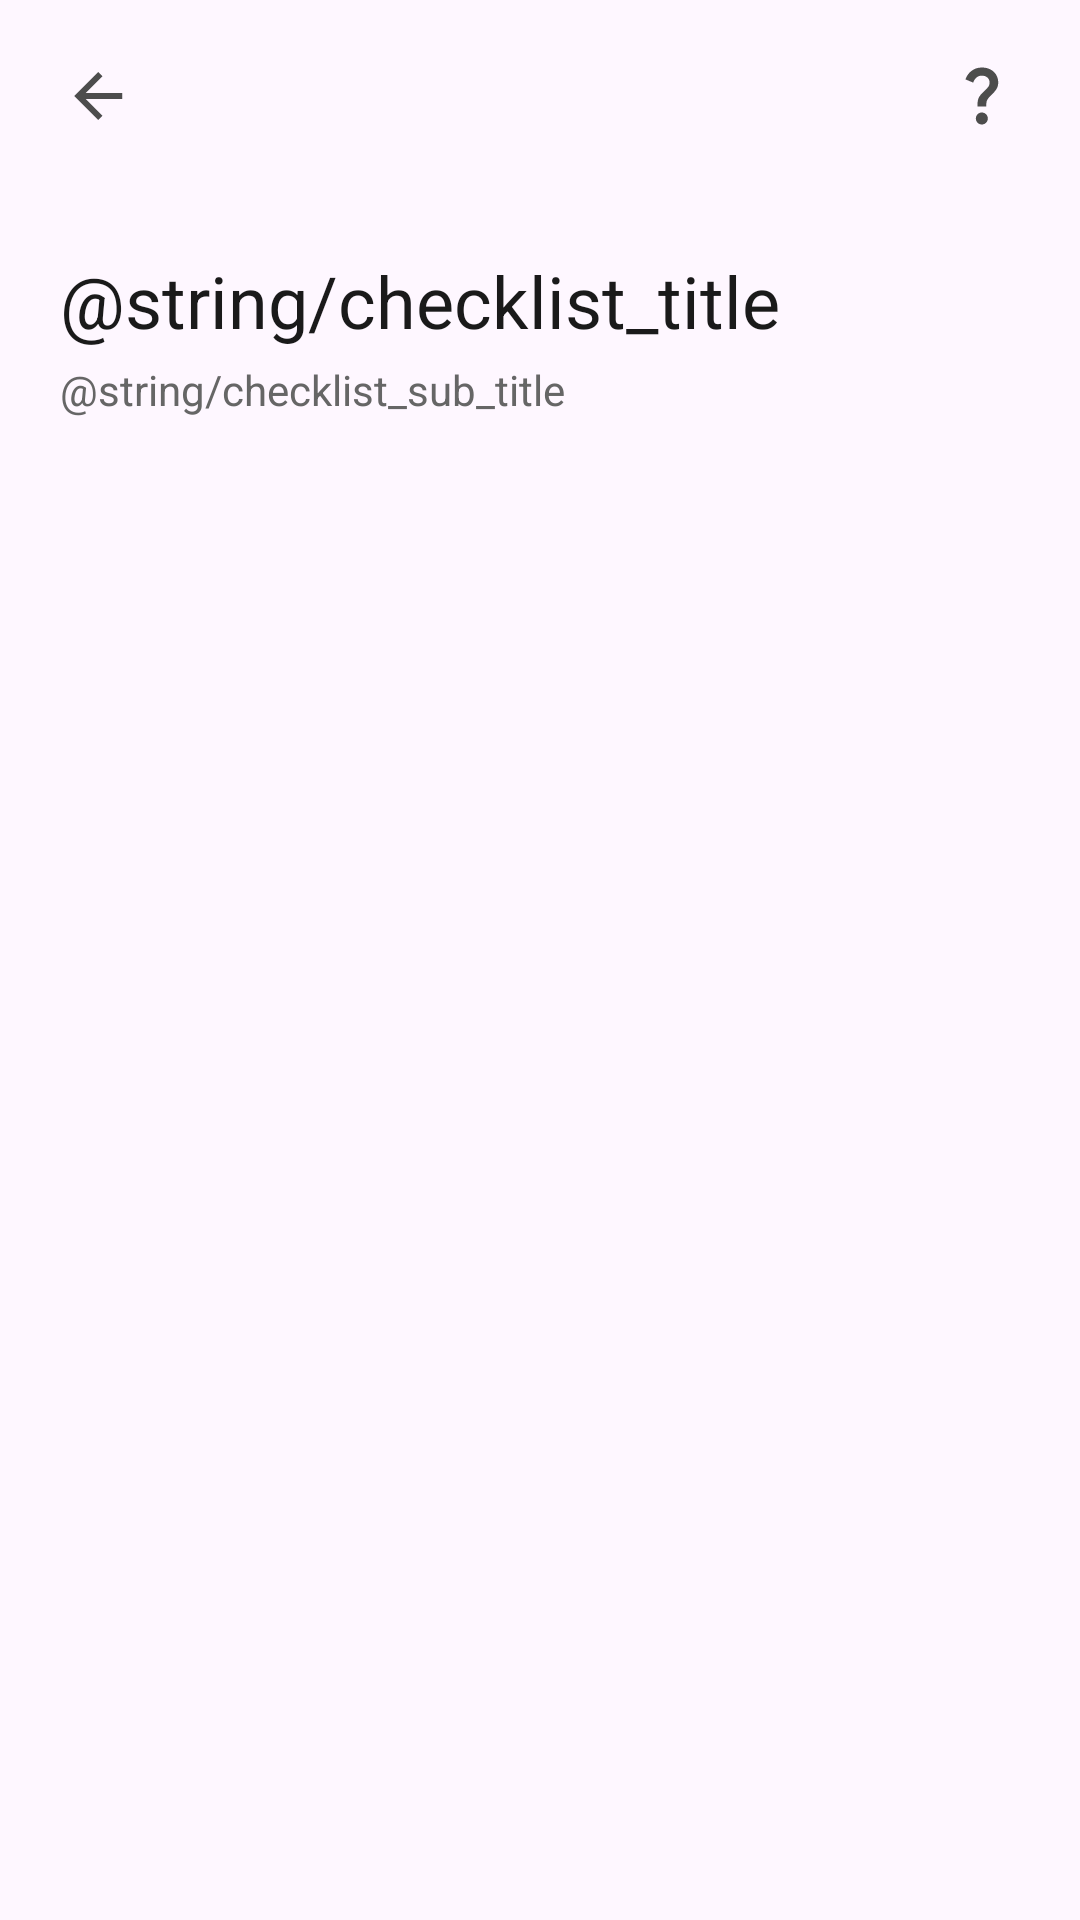

Icon bounding boxes for this 1080×1920 phone screenshot, format (x1, y1, x2, y2):
arrow back: (74, 72, 123, 120)
question mark: (965, 67, 999, 125)
